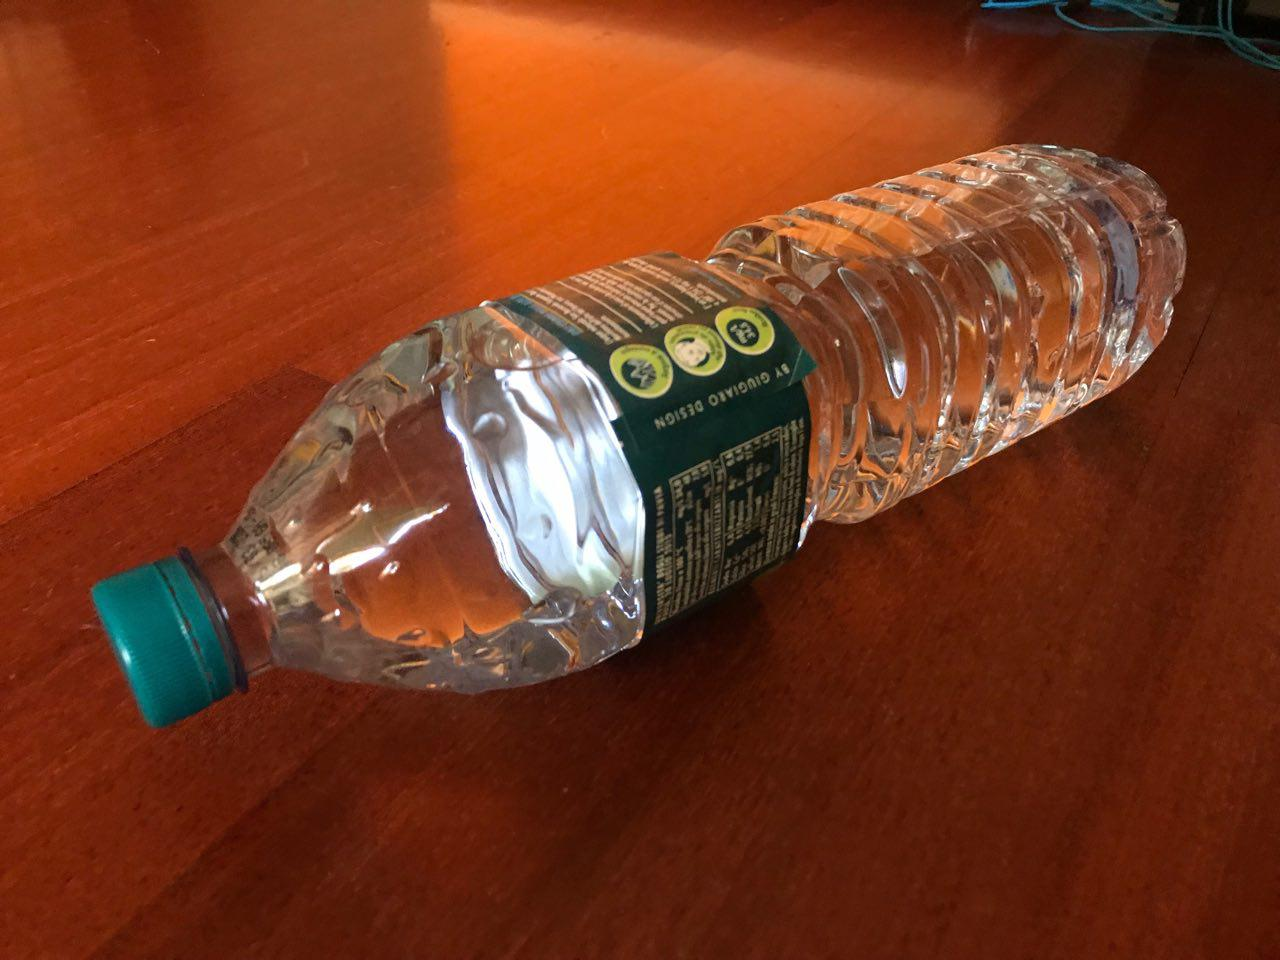san_bernardo: (88, 141, 1188, 732)
